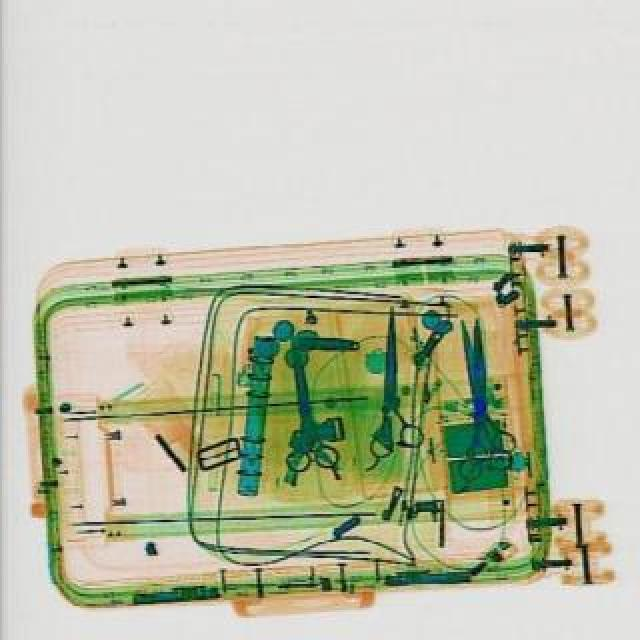pliers: (434, 318, 512, 478), (448, 316, 518, 464), (264, 338, 340, 472), (366, 306, 420, 460)
